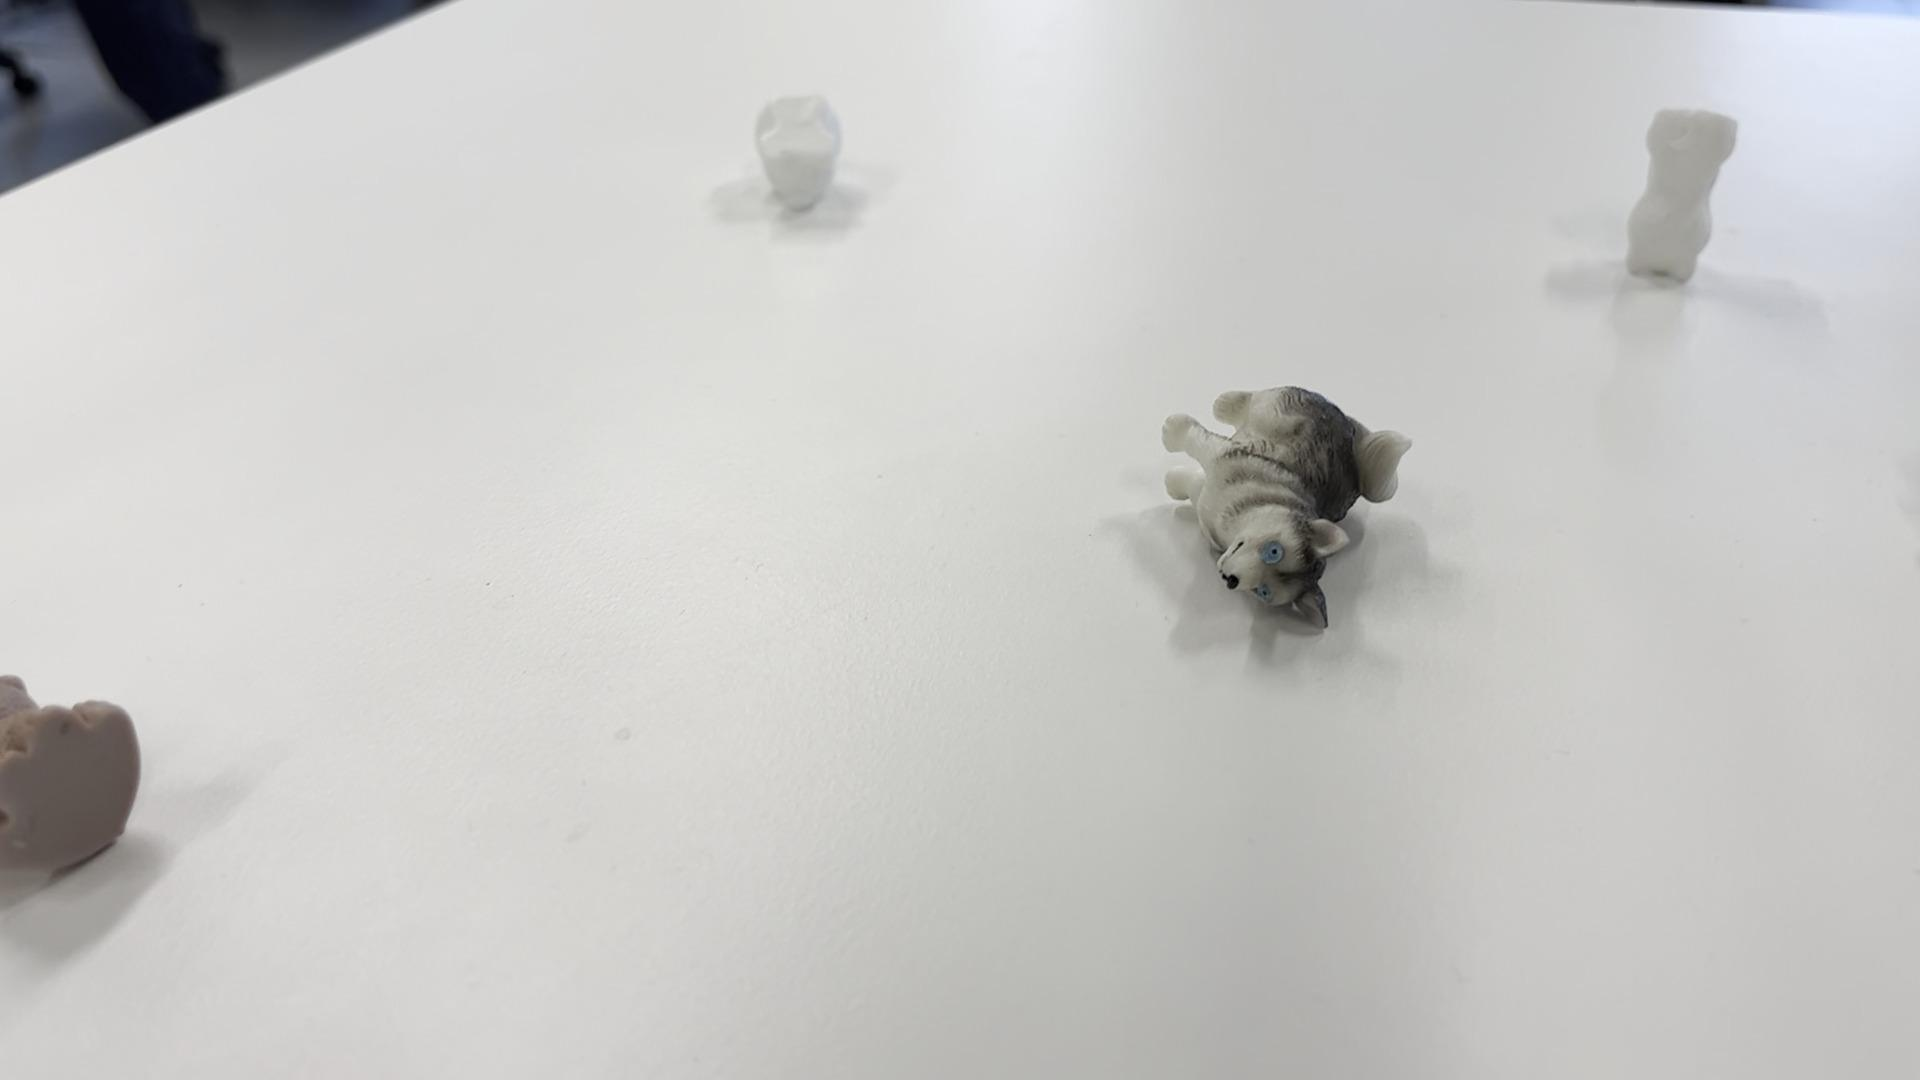pet: (1147, 372, 1411, 653), (0, 662, 152, 910), (1635, 92, 1734, 311), (741, 79, 852, 227)
